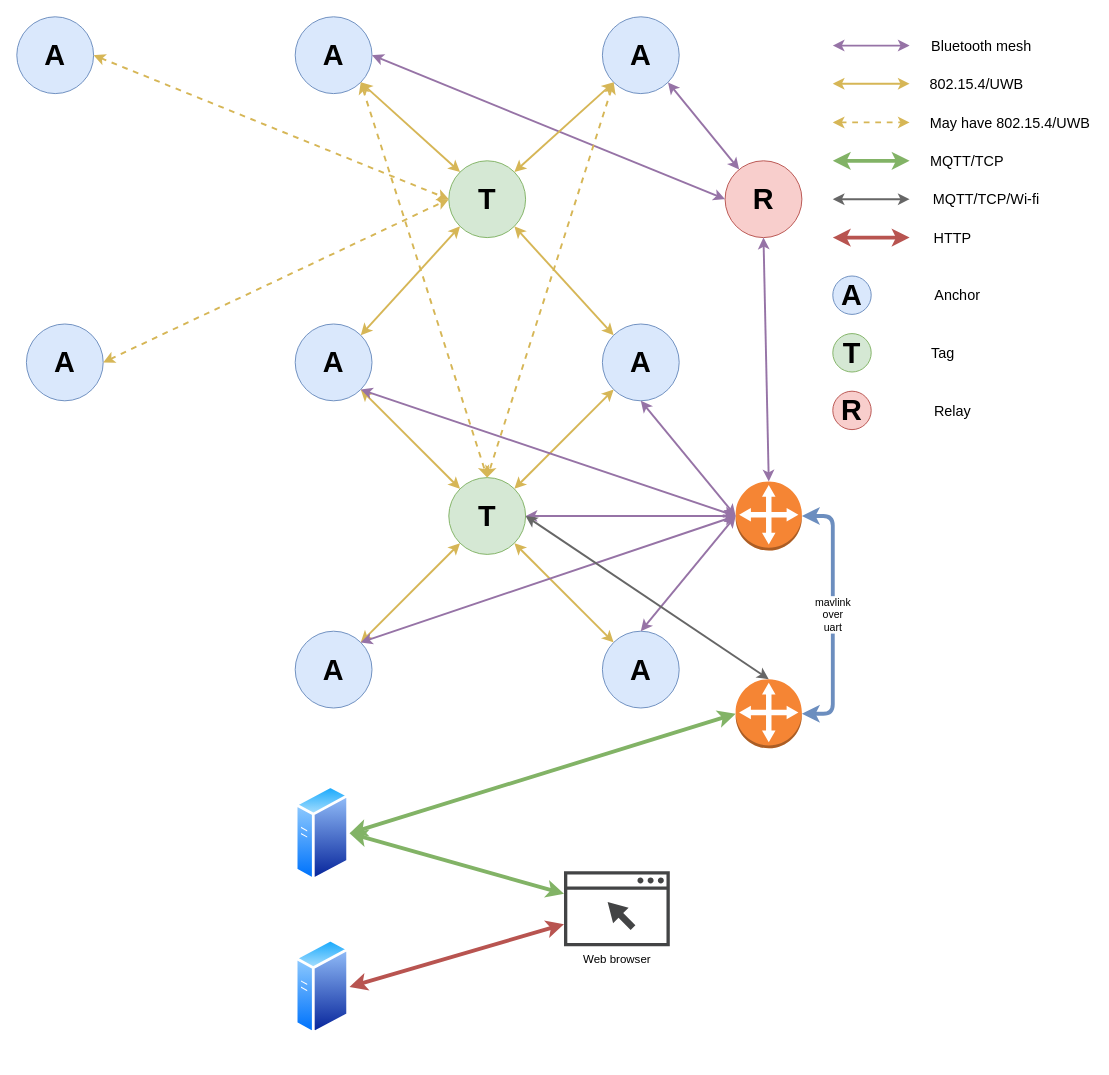
The diagram is 1109 pixels wide and 1075 high, and some of its shapes have lost their labels. Here are the shapes that lost their labels. From the top down, the box of each, then its label:
(735, 480, 802, 551): C Firmware Gateway
(735, 678, 802, 748): Python Software Gateway
(295, 784, 349, 881): MQTT-Broker
(295, 938, 349, 1035): Django Web Server
